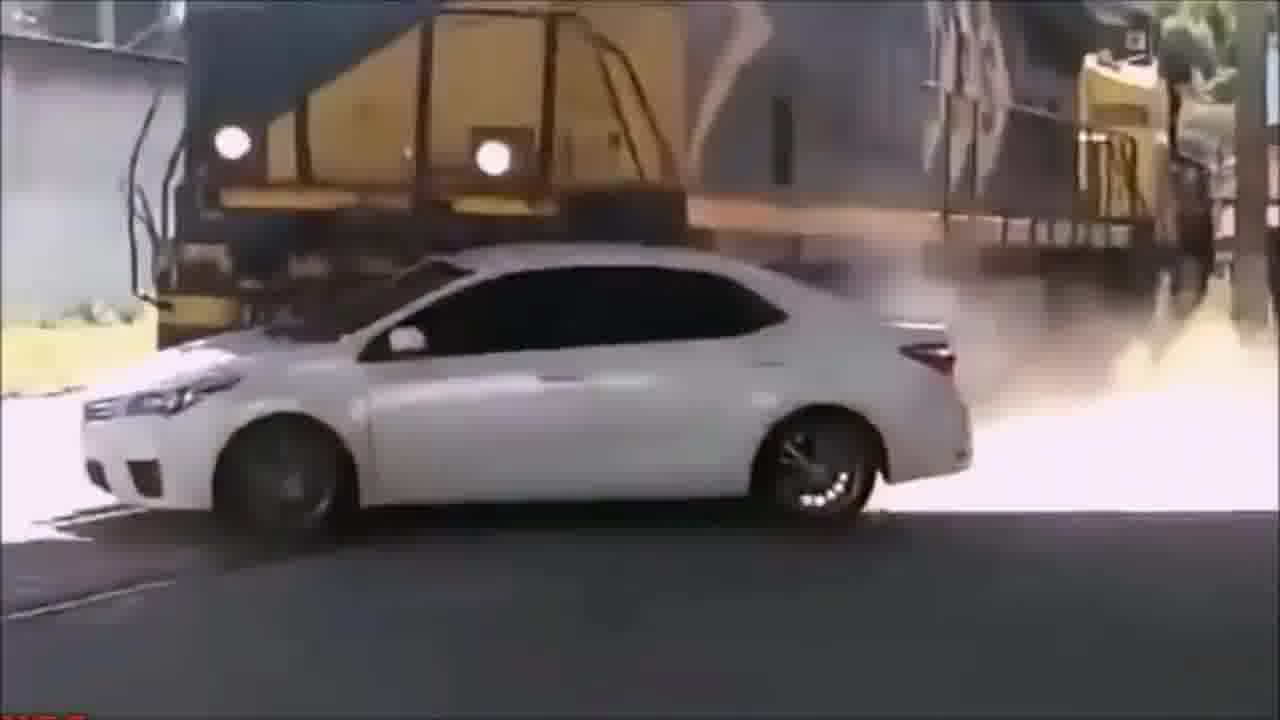crossing railway track: (75, 236, 987, 535)
